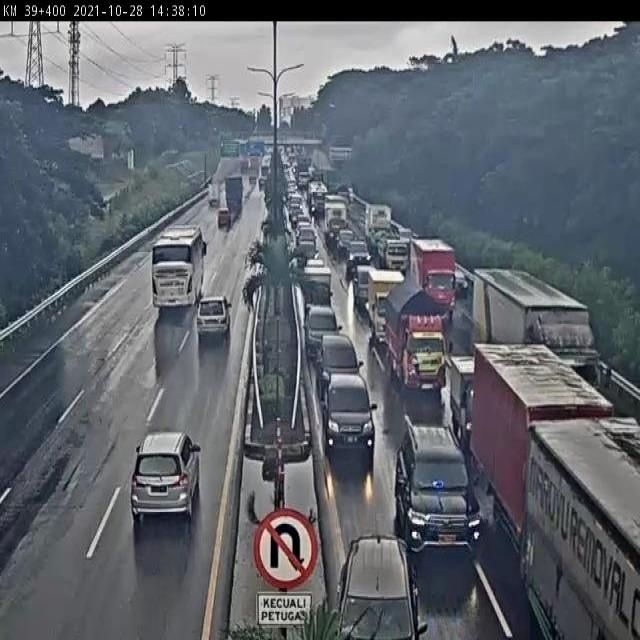Bus: (148, 223, 208, 314)
Car: (393, 420, 482, 556), (334, 531, 426, 640), (130, 429, 202, 526), (320, 372, 376, 458), (317, 332, 363, 402), (305, 303, 340, 365), (196, 296, 232, 342), (352, 262, 378, 312), (344, 240, 370, 277), (337, 229, 359, 261), (296, 240, 319, 268), (296, 224, 317, 245), (216, 206, 231, 229), (305, 255, 325, 270), (295, 213, 311, 231)
Truck: (470, 346, 614, 543), (517, 417, 637, 638), (471, 266, 601, 391), (380, 280, 452, 399), (409, 238, 456, 313), (449, 354, 482, 448), (366, 267, 404, 340), (370, 226, 410, 272), (298, 263, 332, 312), (362, 200, 394, 250), (323, 198, 351, 246), (308, 179, 330, 217), (223, 174, 244, 206), (206, 181, 221, 207), (247, 166, 258, 184), (239, 158, 249, 173)
